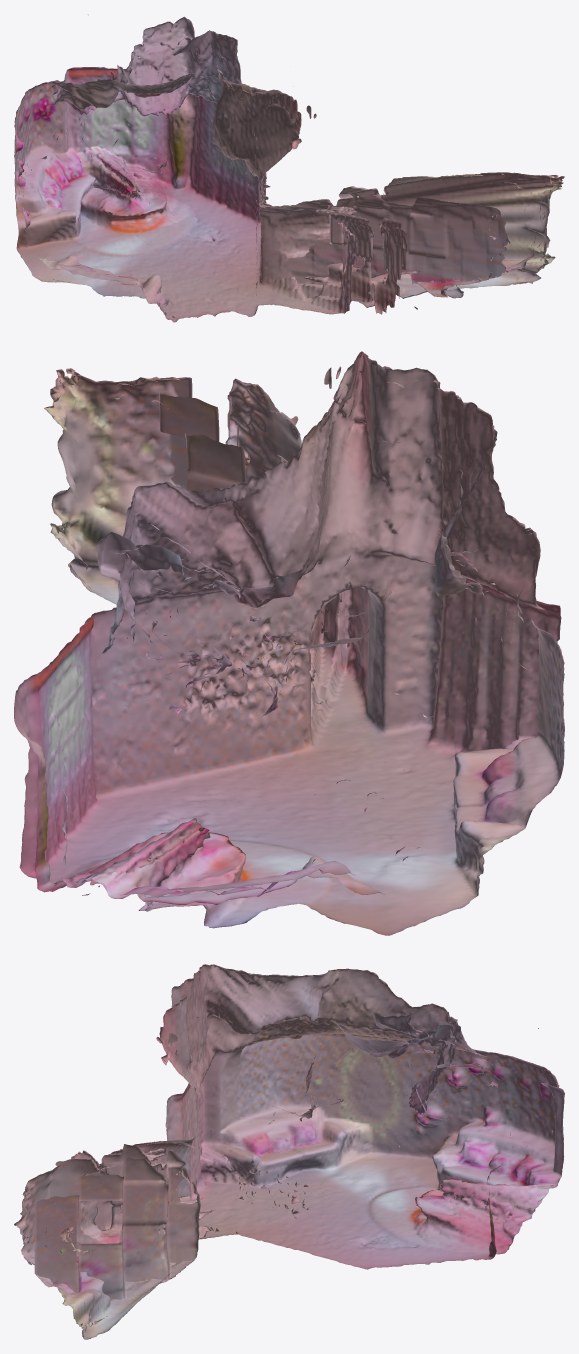
File: sunkissed-sparkle-lounge-1-1_collider.glb
3 renders of one model, top to bottom at view 1: azimuth 30°, elevation 25°; view 2: azimuth 150°, elevation 25°; view 3: azimuth 270°, elevation 25°, orthographic. The views are drawn at different scales.
Parts seen in each view (by area): view 1: world; view 2: world; view 3: world.
Boxes of the visible parts, left/top/right/bottom form: world: left=14, top=14, right=564, bottom=322; world: left=14, top=351, right=564, bottom=935; world: left=14, top=964, right=564, bottom=1339.
Bounding box in the file's own units: 9.89 × 5.29 × 10.94.
